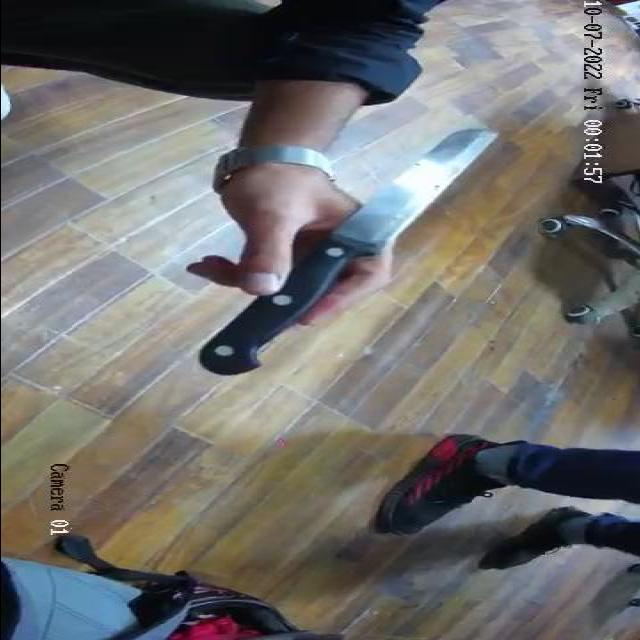Sharp-Object: (190, 127, 502, 378)
